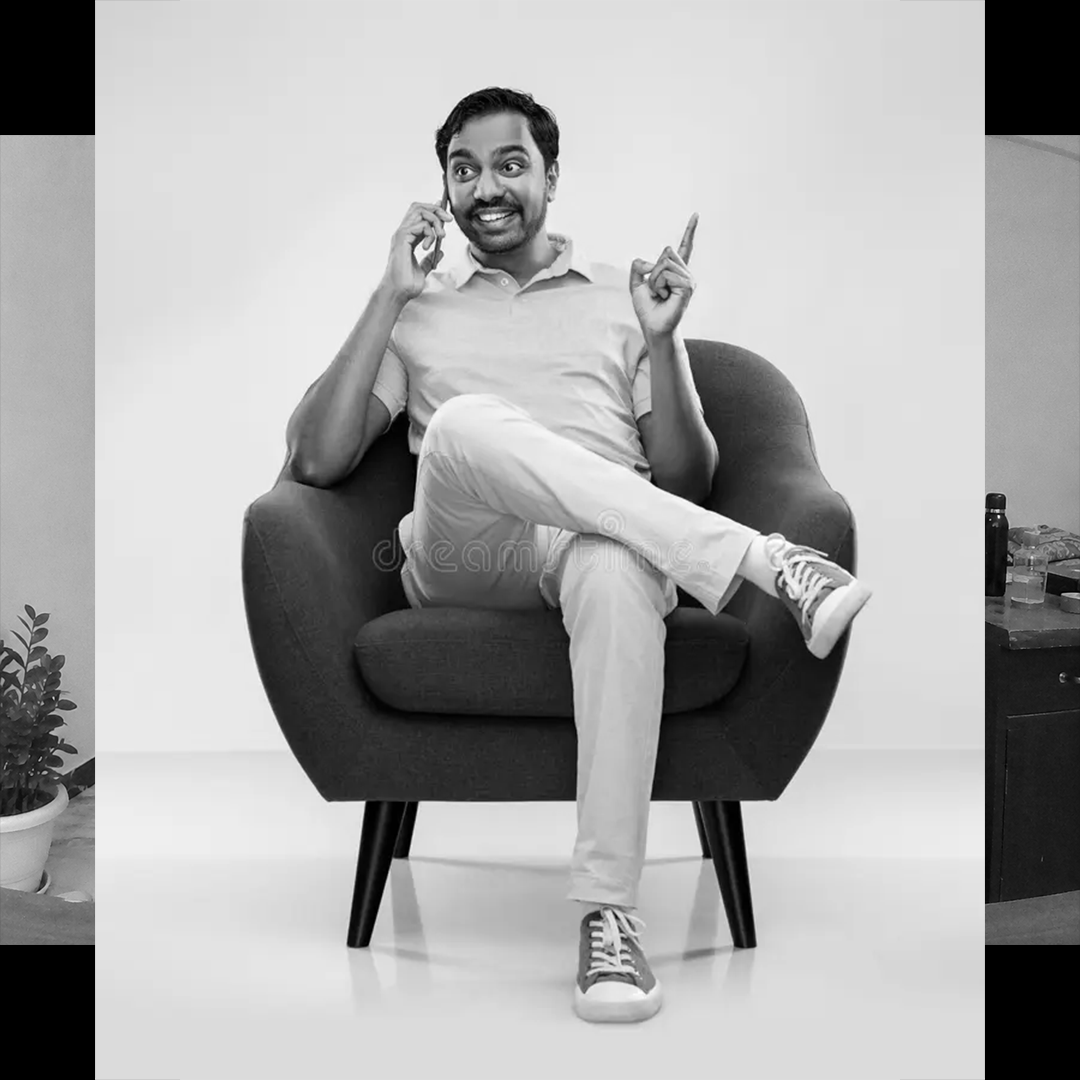distracted: (320, 41, 727, 593)
